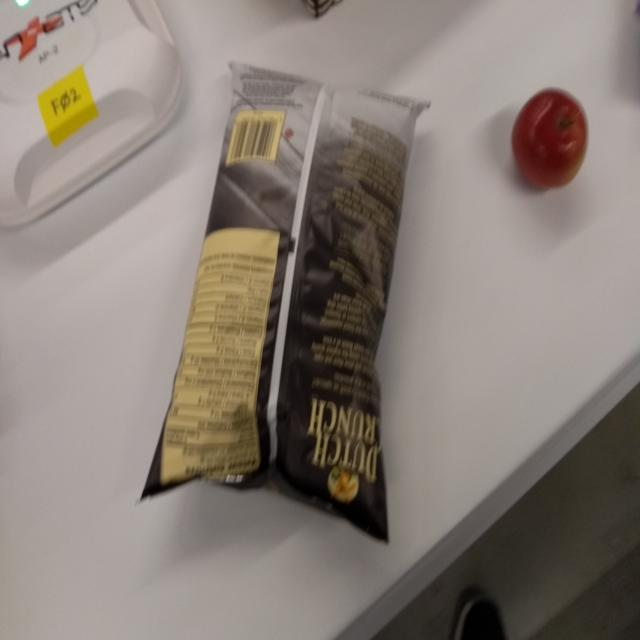apple: (509, 86, 591, 193)
potato_chips: (137, 51, 438, 548)
